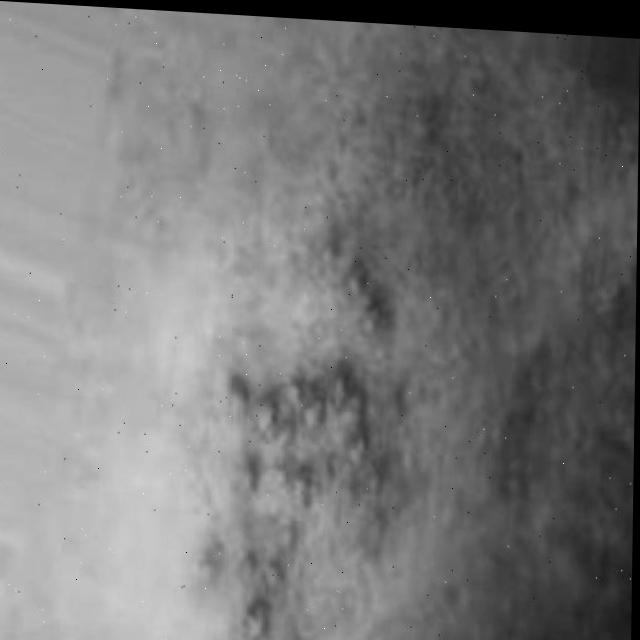Shingles: (198, 219, 387, 640)
